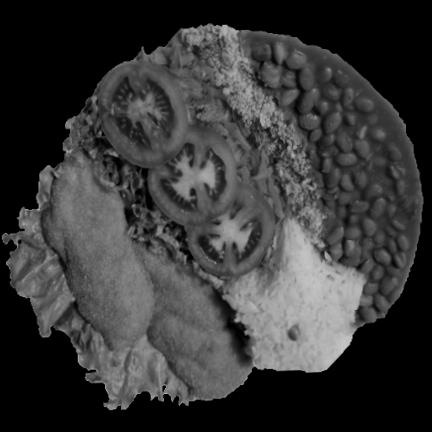beans: (242, 32, 422, 322)
carrot: (141, 33, 290, 234)
chicken: (44, 148, 252, 399)
rice: (222, 219, 362, 372)
salad: (2, 166, 196, 410), (67, 99, 138, 205), (138, 205, 187, 262)
tomato: (99, 63, 274, 277)
